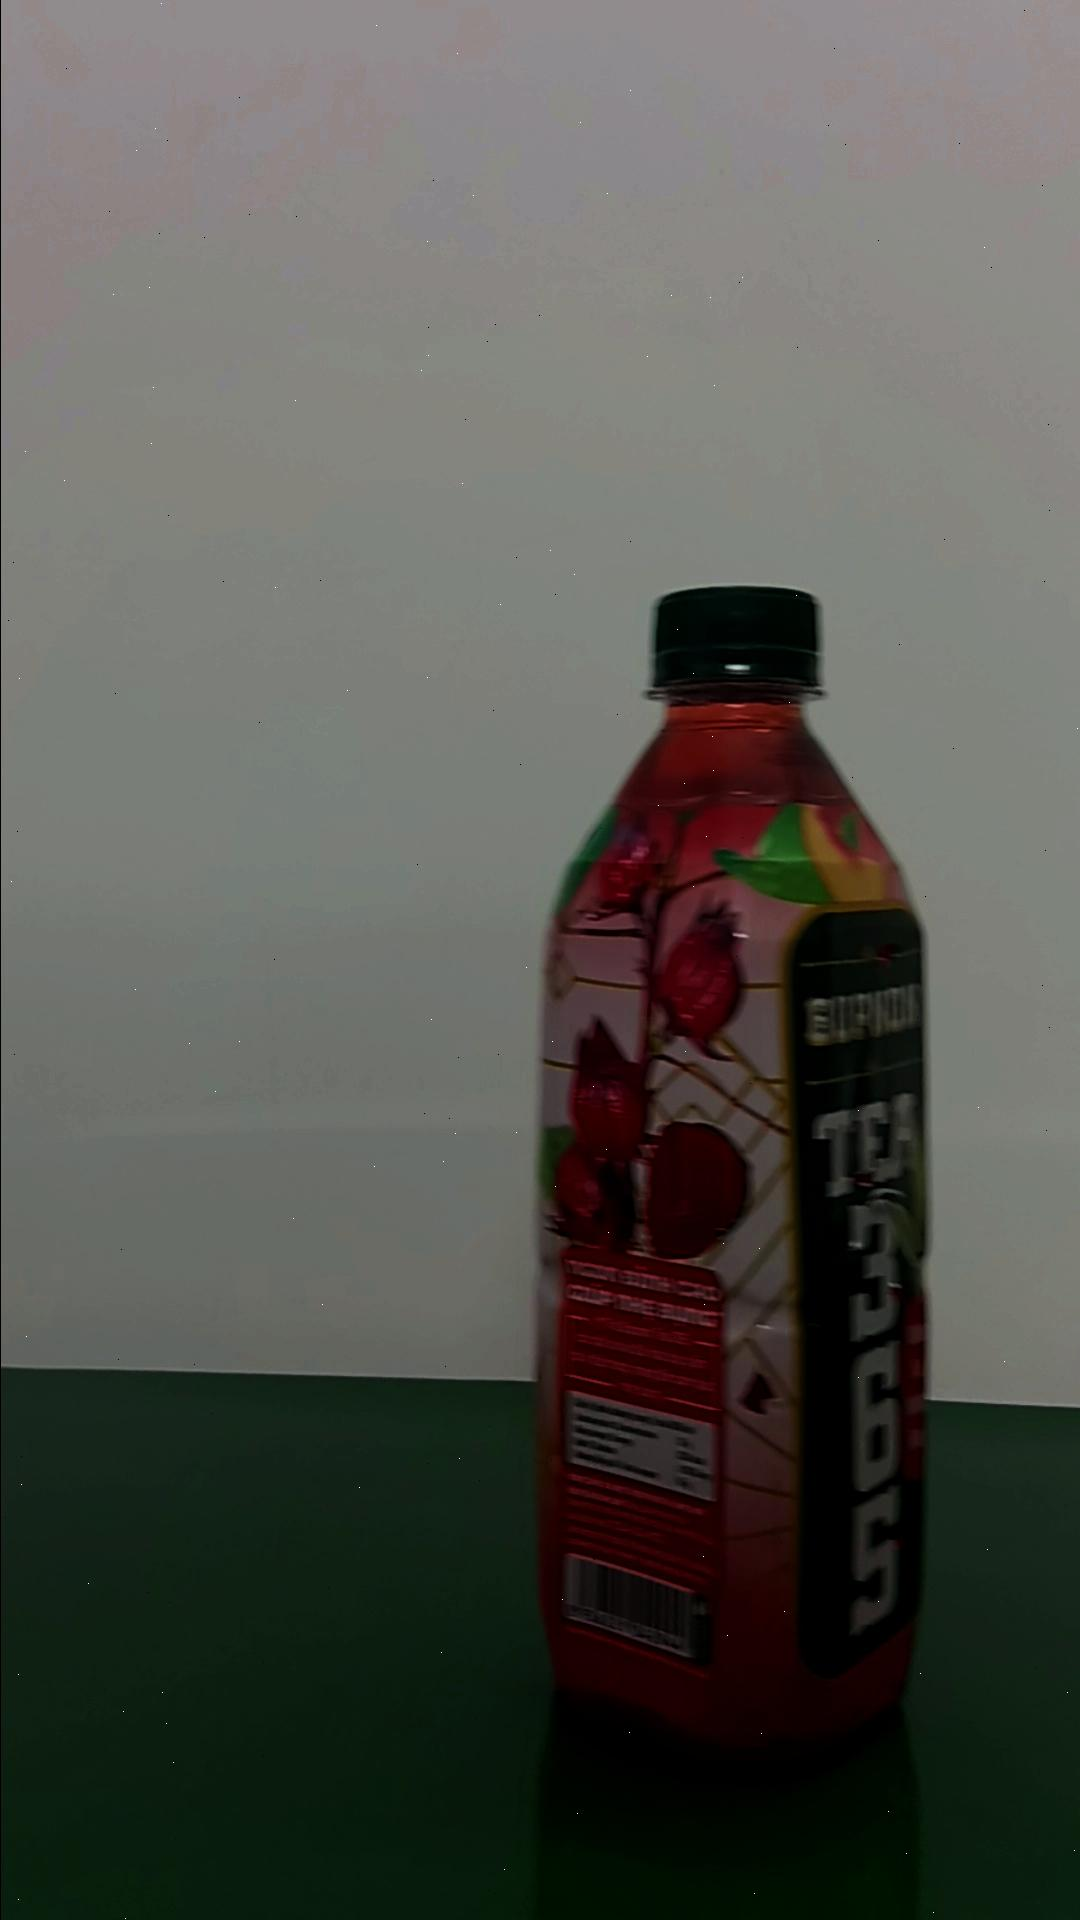loi rach va lap chai: (535, 571, 928, 1780)
